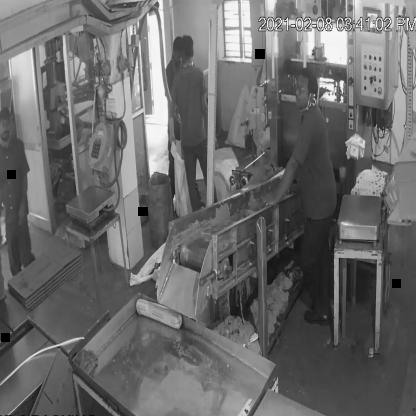no_glove: (258, 151, 306, 214), (14, 159, 31, 234), (0, 167, 9, 252)
